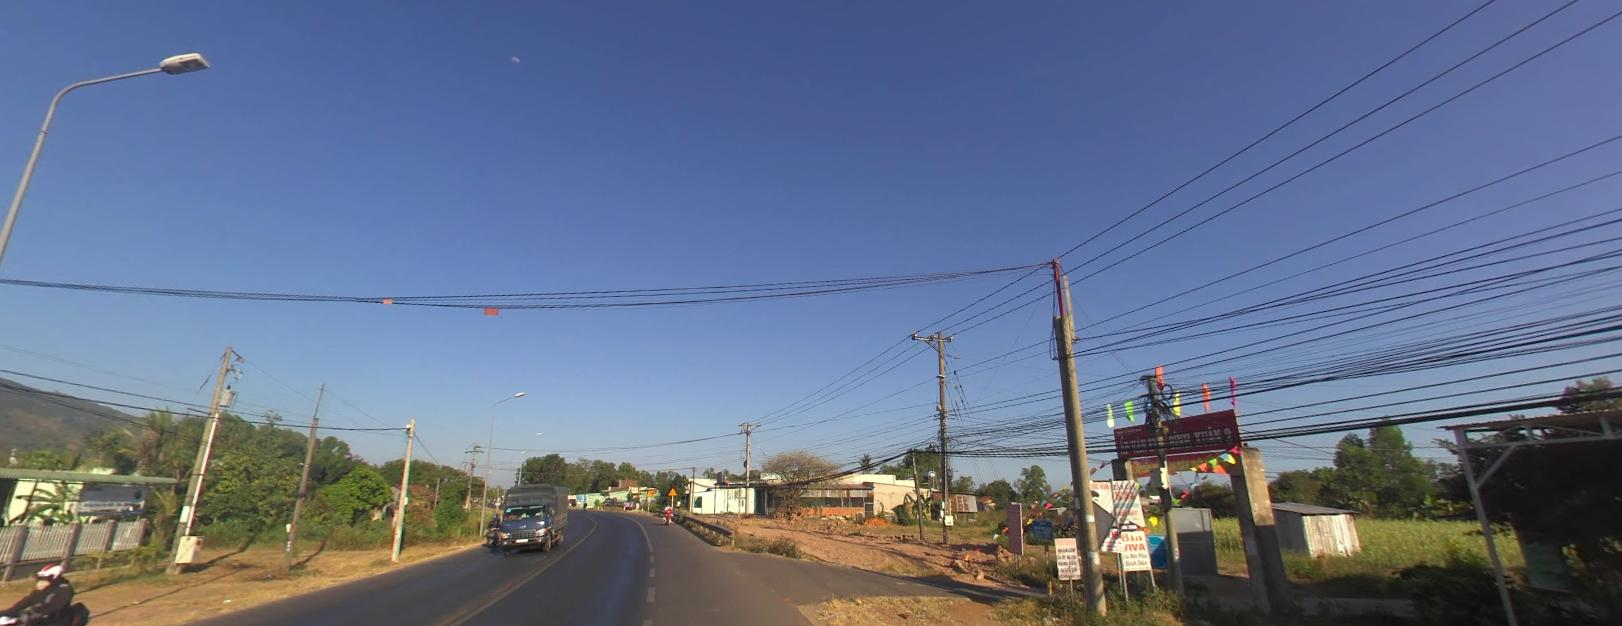Nguy hiem: (667, 484, 677, 494), (667, 485, 677, 494), (645, 488, 652, 494), (645, 489, 651, 495)
